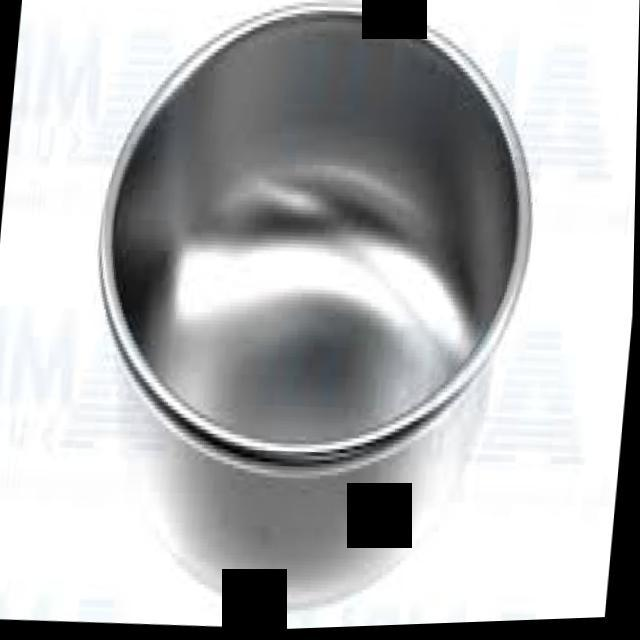Sponge Bowl: (75, 0, 559, 630)
